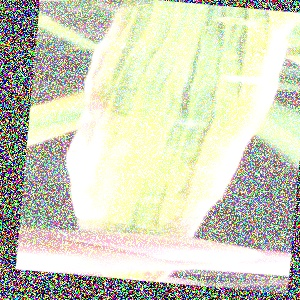Leaf_Blast: (78, 7, 260, 240)
